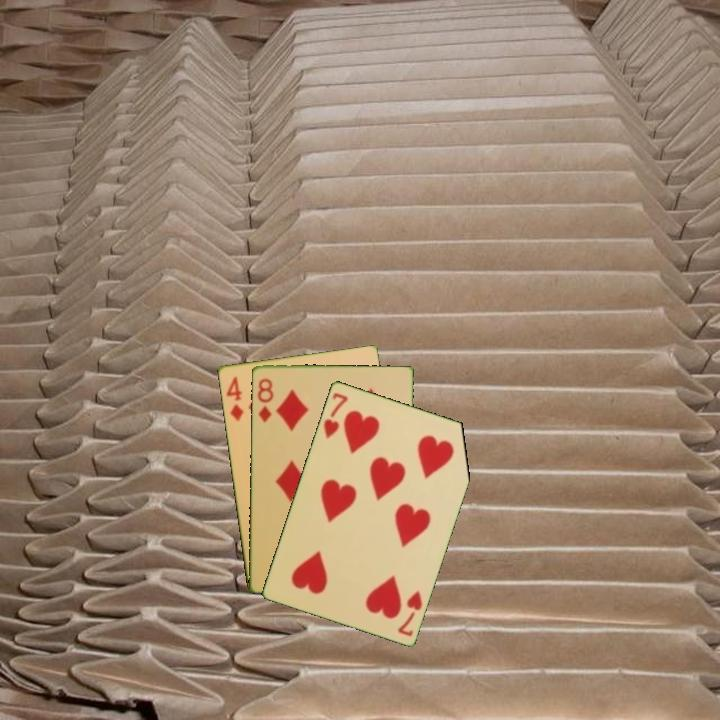4d: (222, 372, 246, 423)
7h: (319, 389, 351, 441), (394, 587, 425, 639)
8d: (254, 375, 276, 425)
